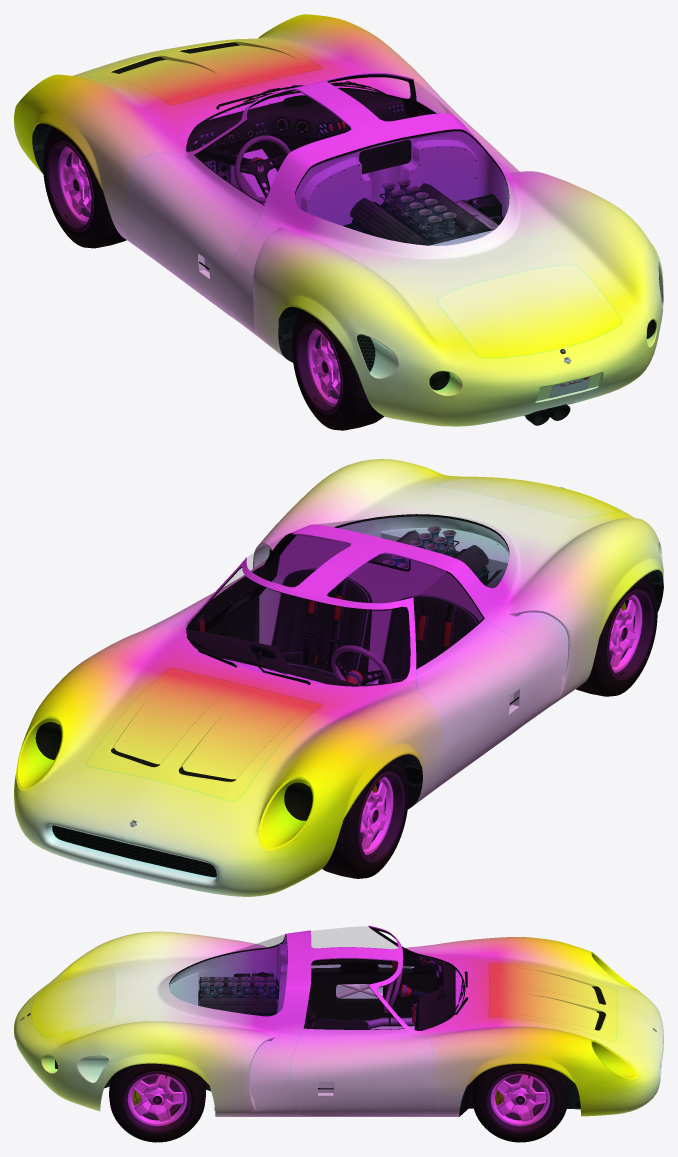
File: swinger.glb
3 renders of one model, top to bottom at view 1: azimuth 30°, elevation 25°; view 2: azimuth 150°, elevation 25°; view 3: azimuth 270°, elevation 25°, orthographic. The views are drawn at different scales.
Parts seen in each view (by area): view 1: bodyshell, chassis, windscreen_r, door_dside_f, boot, misc_a, wheel_lr, wheel_lf, window_lf, misc_b, misc_c, steeringwheel (+1 smaller); view 2: bodyshell, chassis, misc_a, door_dside_f, wheel_lf, windscreen_r, wheel_lr, window_lf, door_pside_f, boot, misc_c, steeringwheel (+1 smaller); view 3: bodyshell, door_pside_f, chassis, misc_a, windscreen_r, wheel_rr, wheel_rf, door_dside_f, boot, window_rf, misc_c, misc_b (+2 smaller).
Boxes of the visible parts, <box> form: bodyshell: <box>14,14,663,426</box>; chassis: <box>32,74,590,398</box>; windscreen_r: <box>295,130,508,245</box>; door_dside_f: <box>127,153,264,316</box>; boot: <box>437,265,621,358</box>; misc_a: <box>87,40,322,105</box>; wheel_lr: <box>292,310,384,430</box>; wheel_lf: <box>43,127,126,248</box>; window_lf: <box>195,121,291,204</box>; misc_b: <box>350,183,488,244</box>; misc_c: <box>379,179,459,242</box>; steeringwheel: <box>234,135,290,203</box>; bodyshell: <box>14,459,663,896</box>; chassis: <box>186,487,663,809</box>; misc_a: <box>87,668,322,801</box>; door_dside_f: <box>416,618,537,792</box>; wheel_lf: <box>322,757,408,878</box>; windscreen_r: <box>317,514,508,587</box>; wheel_lr: <box>576,575,657,696</box>; window_lf: <box>414,571,483,667</box>; door_pside_f: <box>144,564,271,641</box>; boot: <box>438,476,621,519</box>; misc_c: <box>382,526,459,569</box>; steeringwheel: <box>331,645,391,685</box>; bodyshell: <box>14,925,663,1116</box>; door_pside_f: <box>290,1028,433,1115</box>; chassis: <box>20,927,580,1116</box>; misc_a: <box>488,963,617,1041</box>; windscreen_r: <box>169,934,287,1015</box>; wheel_rr: <box>109,1063,205,1142</box>; wheel_rf: <box>472,1064,568,1142</box>; door_dside_f: <box>308,945,433,1020</box>; boot: <box>31,970,115,1037</box>; window_rf: <box>304,985,403,1029</box>; misc_c: <box>199,976,276,998</box>; misc_b: <box>199,977,276,1015</box>.
Bounding box in the file's own units: 1.85 × 1.02 × 4.34.
24 materials, 24 textured.
